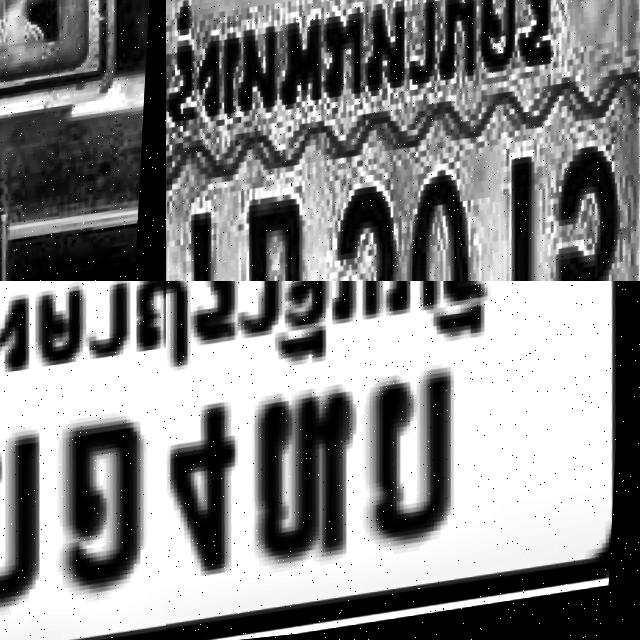license-plate: (166, 281, 640, 640), (166, 0, 640, 281), (0, 281, 166, 640), (0, 0, 139, 202)
